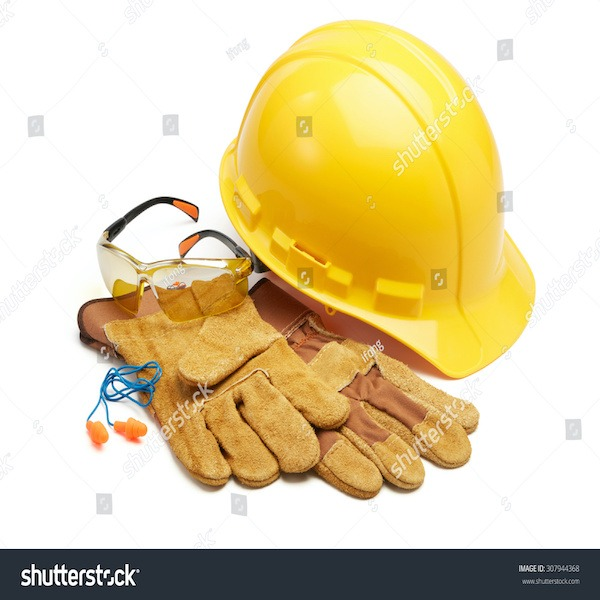helmet: (222, 30, 535, 345)
